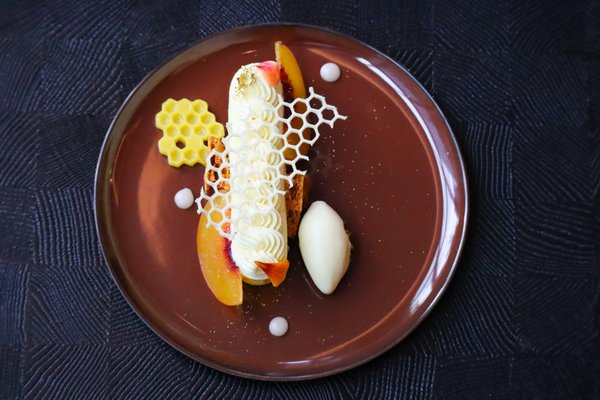curry: (11, 0, 599, 391)
